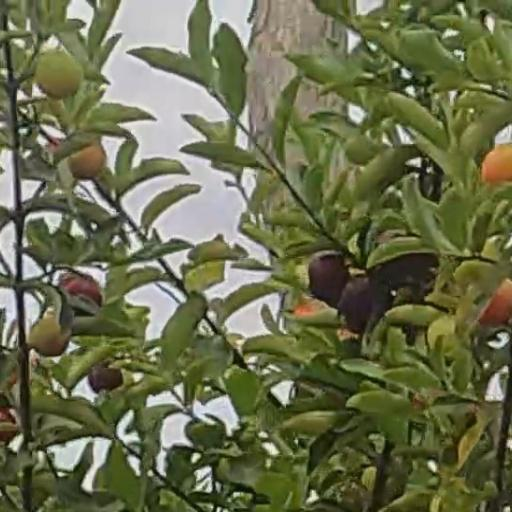acerola_verde: (40, 51, 81, 97), (30, 324, 69, 355)
acerola_vermelha: (342, 279, 374, 326), (311, 249, 339, 301), (485, 143, 512, 184), (66, 276, 104, 305), (72, 147, 105, 180), (486, 284, 510, 325), (86, 372, 122, 391)
